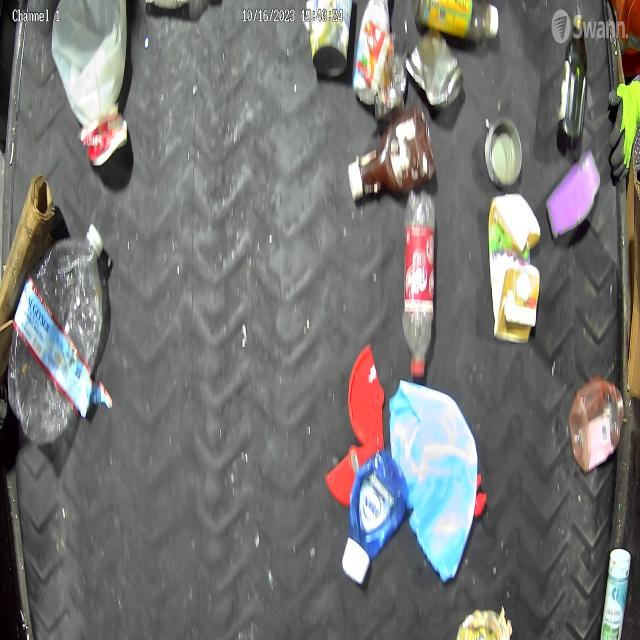can: (404, 23, 464, 107), (308, 0, 353, 79), (483, 114, 523, 188)
milk_jug: (51, 0, 128, 129)
plastic_bottle: (6, 220, 105, 447), (401, 187, 437, 379)
